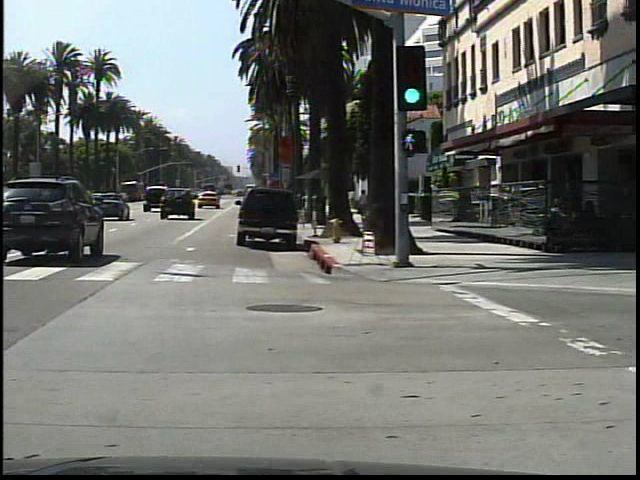person: (359, 183, 372, 225)
